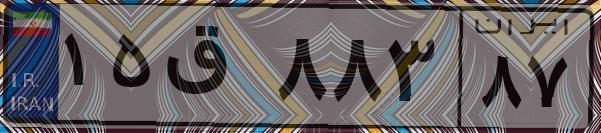1: (57, 26, 110, 100)
3: (385, 28, 445, 110)
5: (110, 28, 158, 98)
7: (525, 38, 570, 115)
8: (270, 28, 330, 110), (330, 28, 385, 110), (475, 38, 525, 113)
ق: (158, 20, 270, 120)
